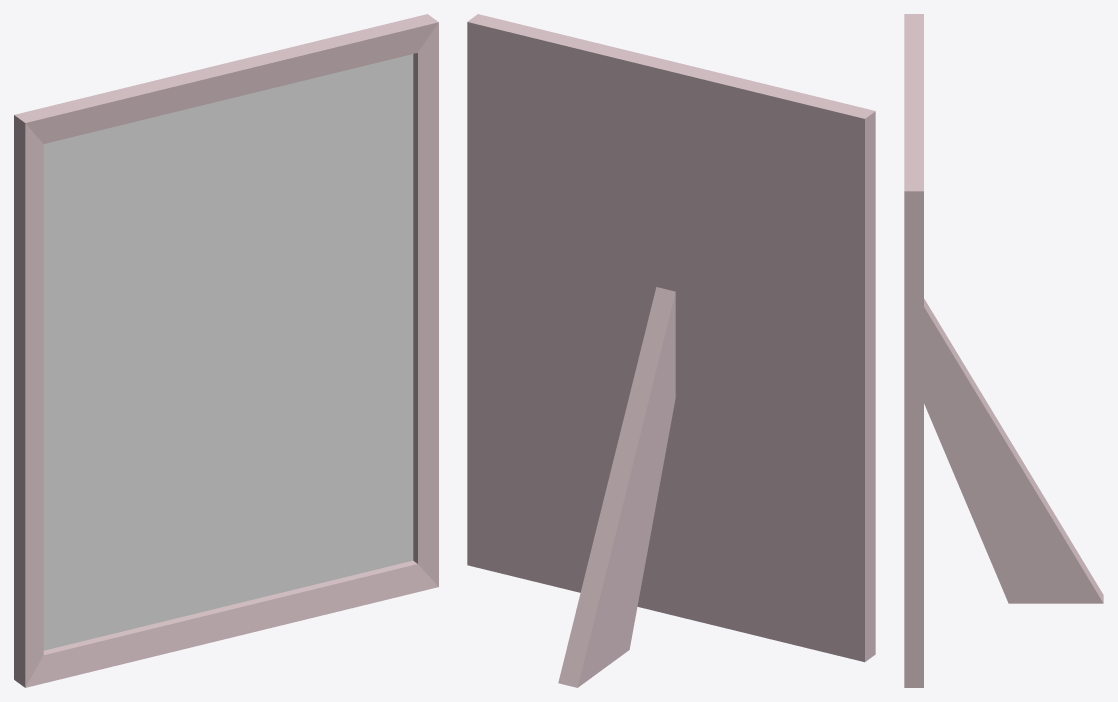
File: Frame.fbx
3 renders of one model, left to right at view 1: azimuth 30°, elevation 25°; view 2: azimuth 150°, elevation 25°; view 3: azimuth 270°, elevation 25°, orthographic. The views are drawn at different scales.
Visible parts, largest first — view 1: Picture Frame; view 2: Picture Frame; view 3: Picture Frame.
Part boxes in pixels (<box>): Picture Frame: <box>14,14,438,687</box>; Picture Frame: <box>467,14,875,687</box>; Picture Frame: <box>904,14,1103,687</box>.
Bounding box in the file's own units: 0.9381 × 1.22 × 0.4451.
